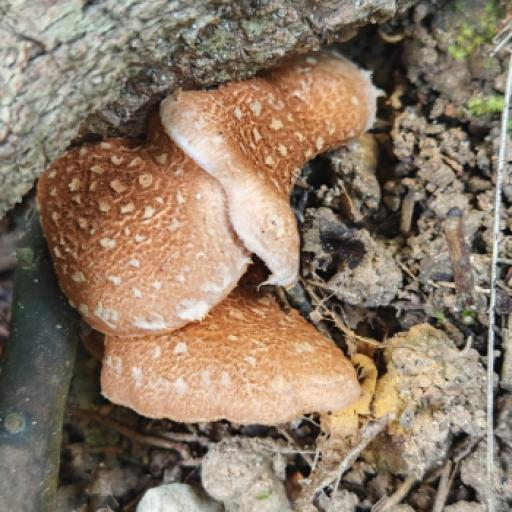Shiitake Mushroom: (28, 44, 452, 468)
